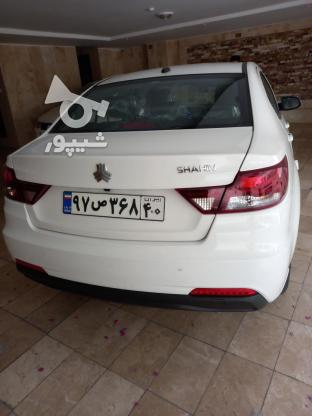car: (62, 189, 165, 223)
